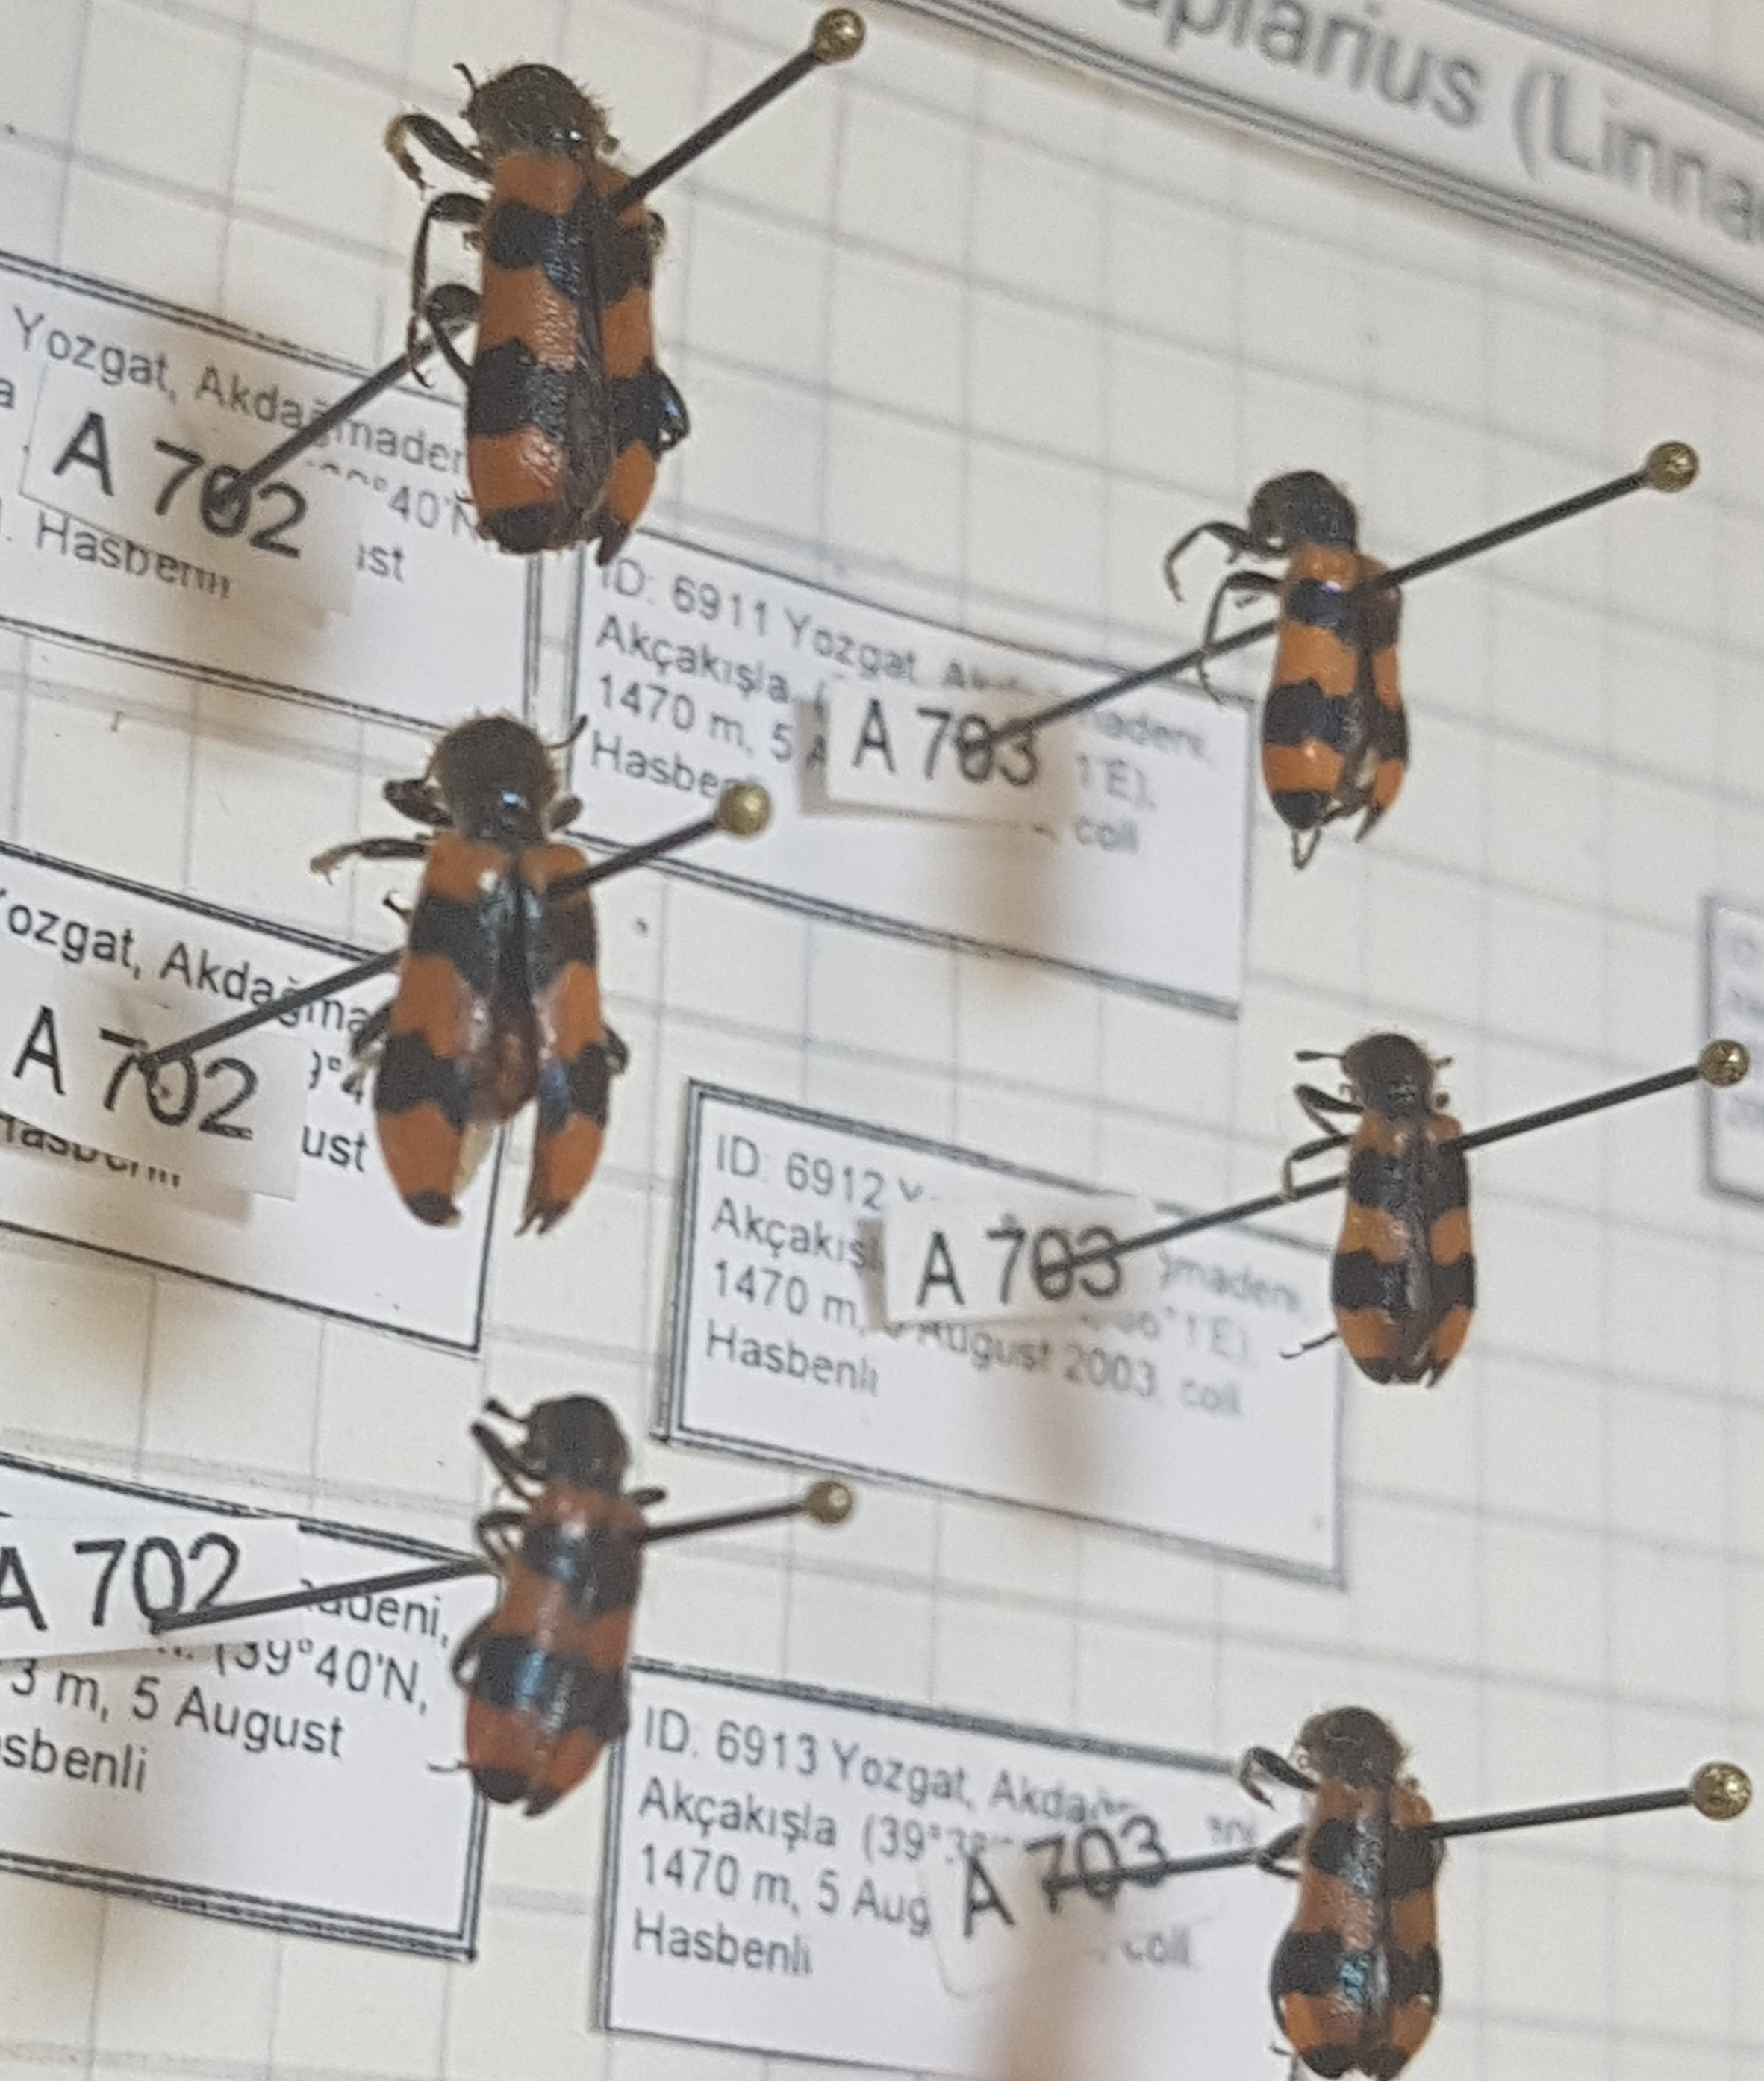trichodes_apiarius: (364, 21, 709, 578), (322, 700, 630, 1255), (1132, 441, 1451, 872), (1185, 1654, 1465, 2081), (432, 1355, 665, 1855), (1270, 999, 1501, 1425)
